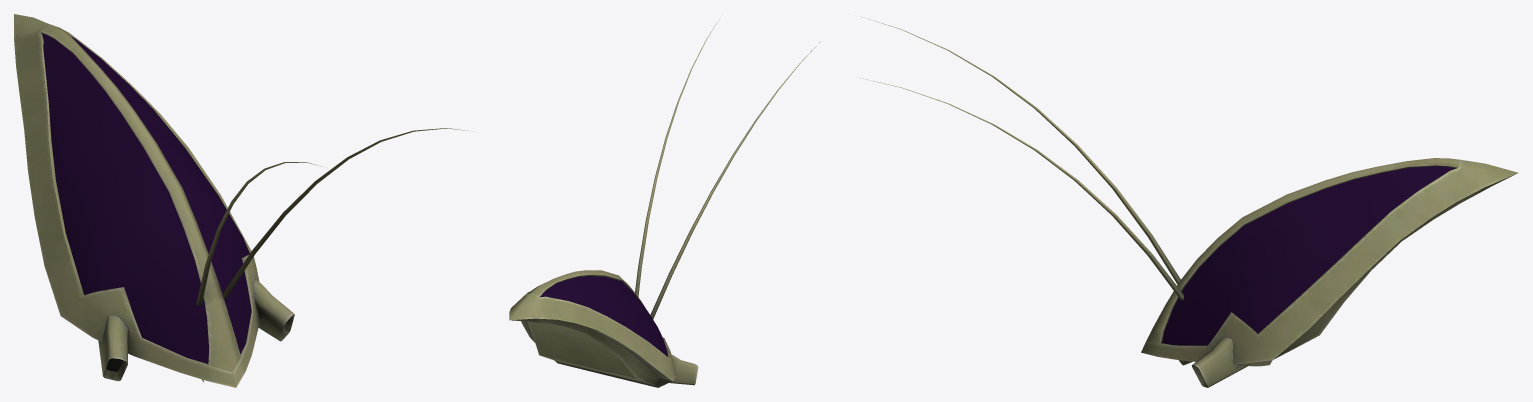
The picture shows the model from 3 angles, left to right: view 1: azimuth 30°, elevation 25°; view 2: azimuth 150°, elevation 25°; view 3: azimuth 270°, elevation 25°; orthographic projection. The views are drawn at different scales.
Parts seen in each view (by area): view 1: c05_102_00 head; view 2: c05_102_00 head; view 3: c05_102_00 head.
Part boxes in pixels (x1,y1,x2,y2): c05_102_00 head: [14, 14, 473, 387]; c05_102_00 head: [509, 22, 820, 387]; c05_102_00 head: [863, 19, 1518, 387].
Size of the model in its own units: 1.49 by 2.72 by 5.14.
Materials: 2 (2 with a texture image).
